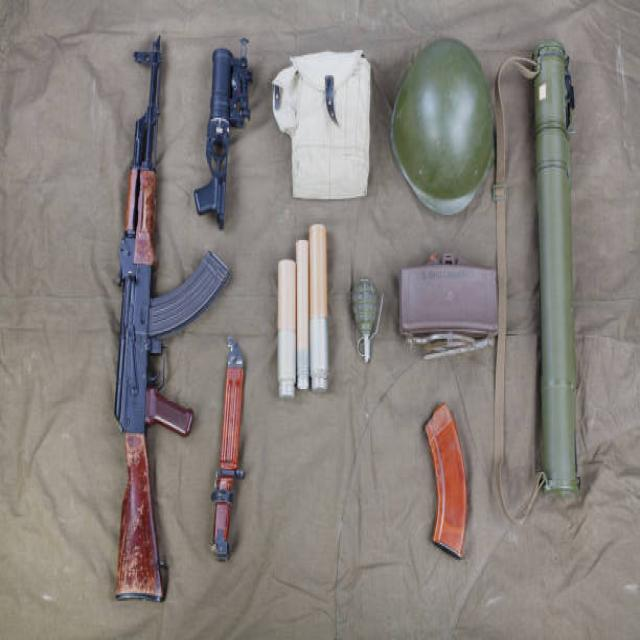grenade: (347, 280, 387, 363)
